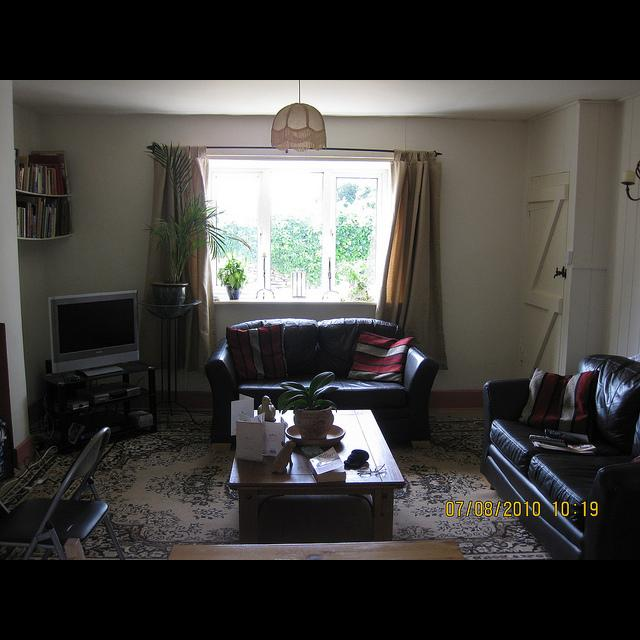Flat-Panel-TV: (52, 290, 144, 370)
TV-Remote-Control: (545, 429, 588, 444), (528, 433, 567, 447)
